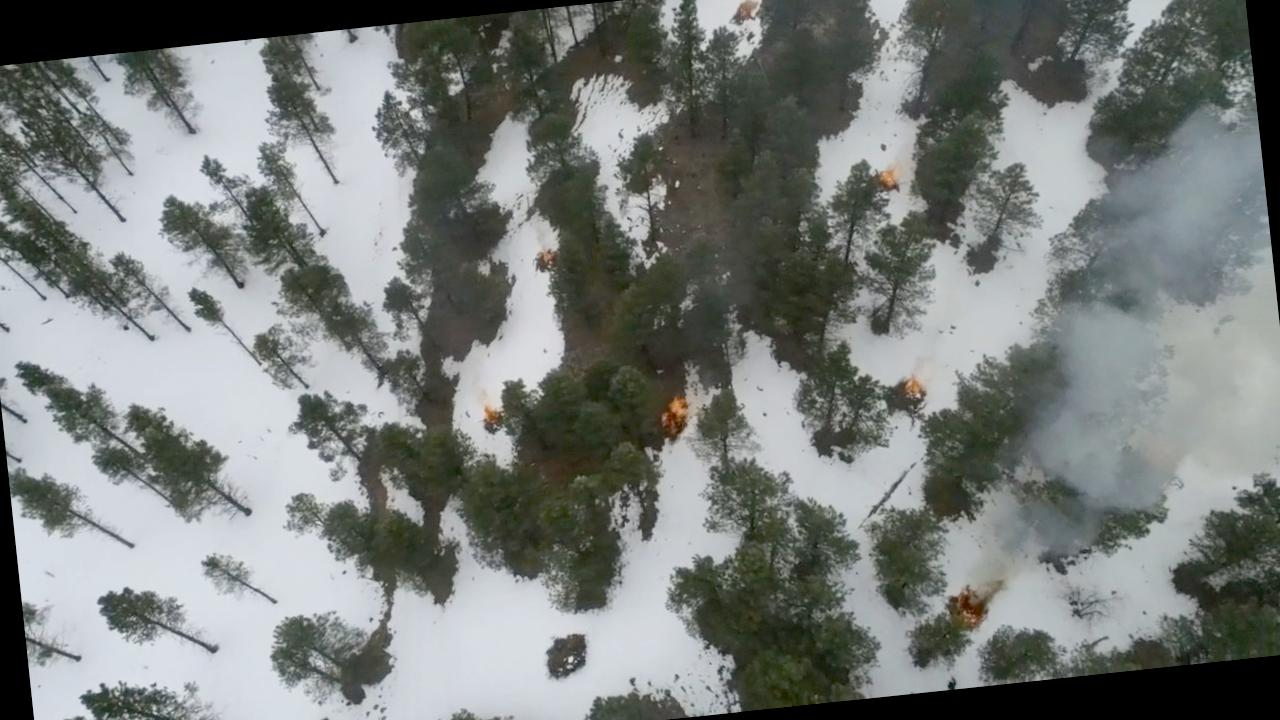fire: (944, 576, 996, 630), (652, 390, 697, 448), (896, 372, 930, 409), (874, 160, 906, 194)
smoke: (1032, 311, 1280, 533), (1065, 113, 1278, 327)
